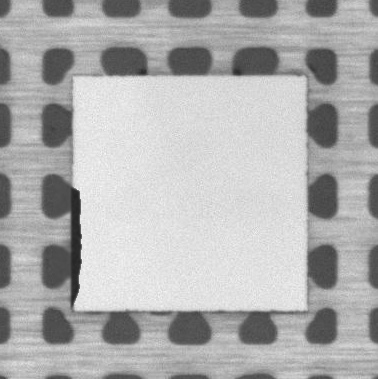DIE_BROKEN: (68, 181, 84, 307)
